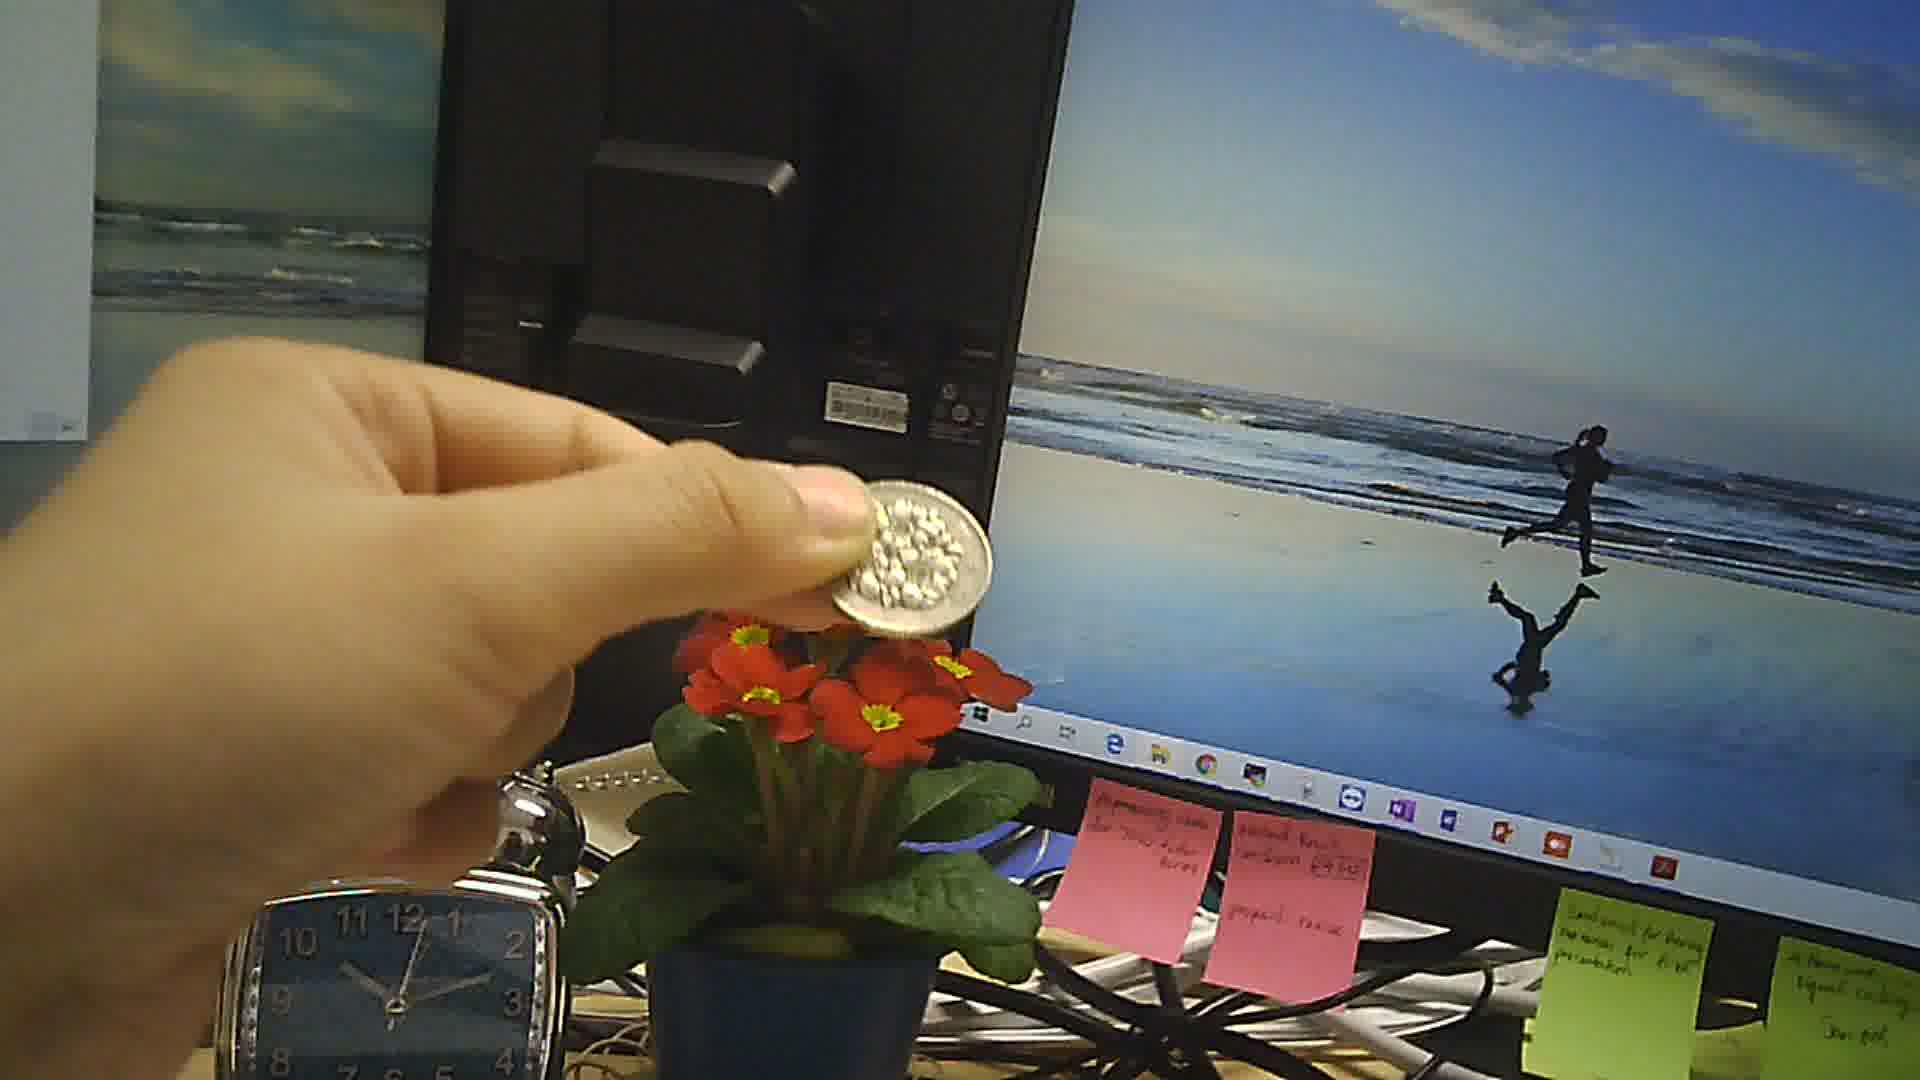100 Yen: (822, 469, 988, 636)
